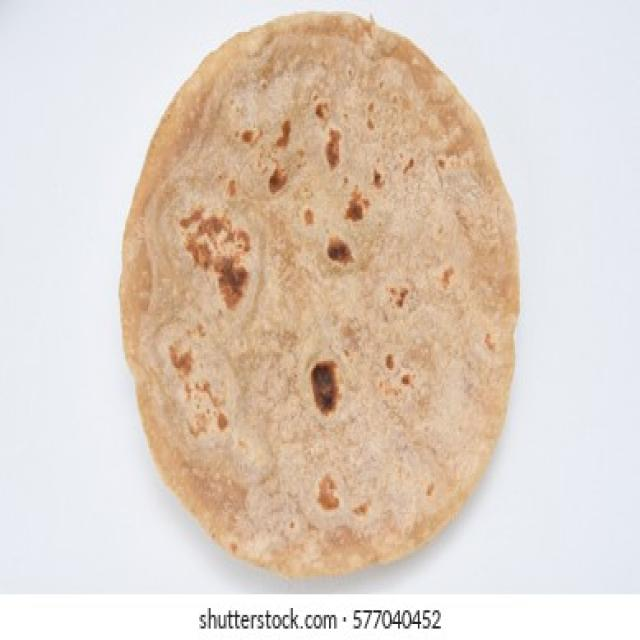ROTI: (118, 9, 515, 574)
